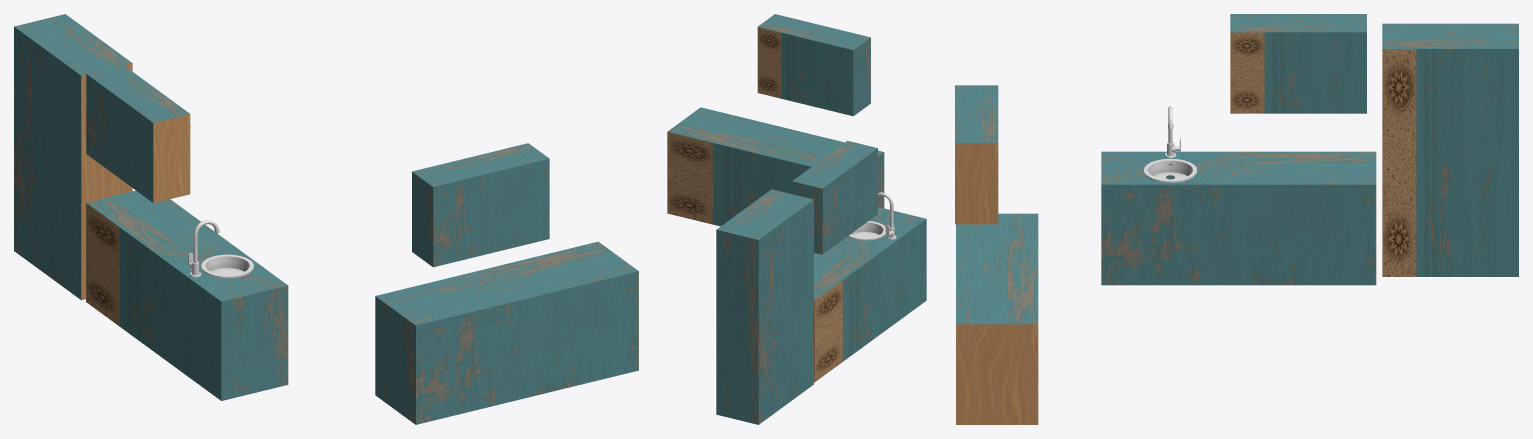
File: KitchenCollider.fbx
The picture shows the model from 3 angles, left to right: view 1: azimuth 30°, elevation 25°; view 2: azimuth 150°, elevation 25°; view 3: azimuth 270°, elevation 25°; orthographic projection. The views are drawn at different scales.
Parts seen in each view (by area): view 1: KitchenCollider; view 2: KitchenCollider; view 3: KitchenCollider.
Boxes of the visible parts, bbox=[...] form: KitchenCollider: bbox=[14, 14, 638, 424]; KitchenCollider: bbox=[667, 14, 926, 424]; KitchenCollider: bbox=[955, 14, 1518, 424].
Bounding box in the file's own units: 4.72 × 6.48 × 3.01.
Materials: 2 (2 with a texture image).
